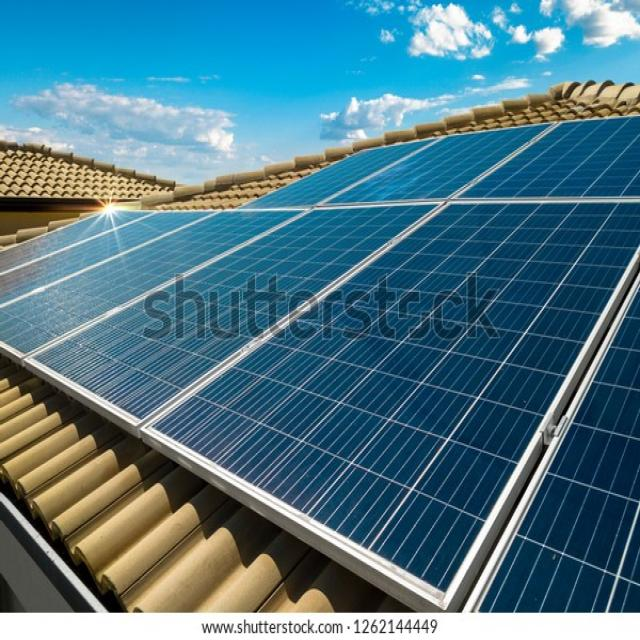clean-solar-panel: (1, 117, 640, 611)
